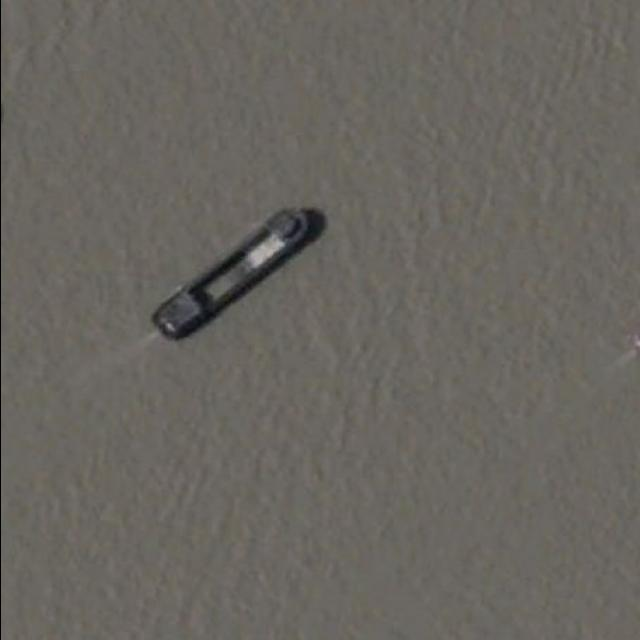ship: (149, 203, 321, 341)
